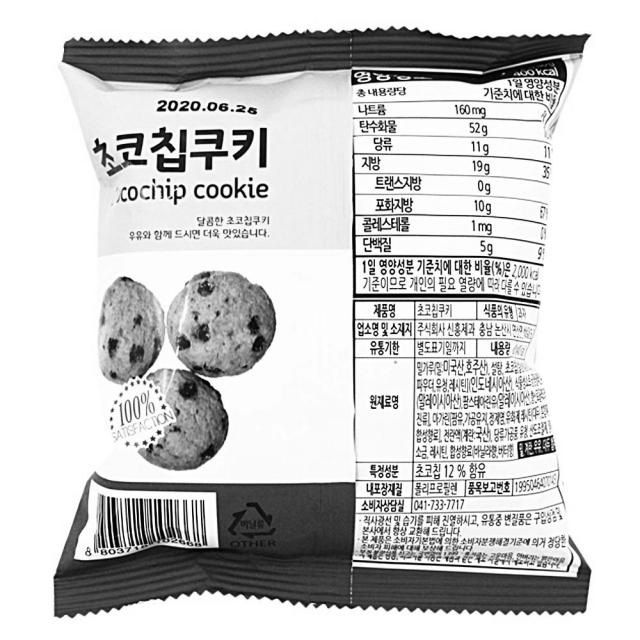Nutrition Label: (347, 52, 573, 308)
